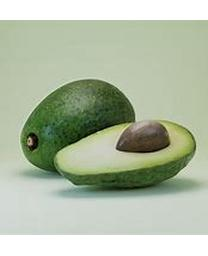avocado: (19, 79, 136, 175), (52, 120, 197, 189)
